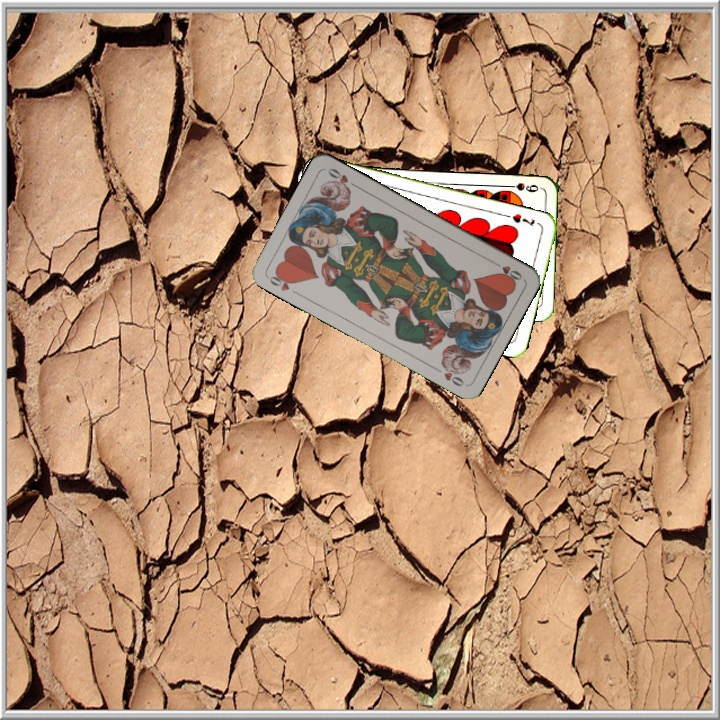H7: (508, 210, 537, 229)
HO: (488, 257, 525, 284), (264, 268, 298, 294)
S9: (501, 178, 541, 195)
